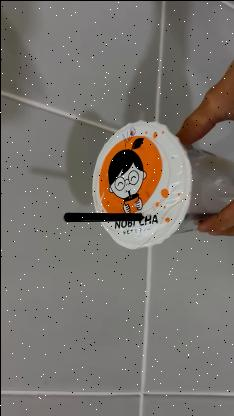Others: (62, 124, 234, 244)
